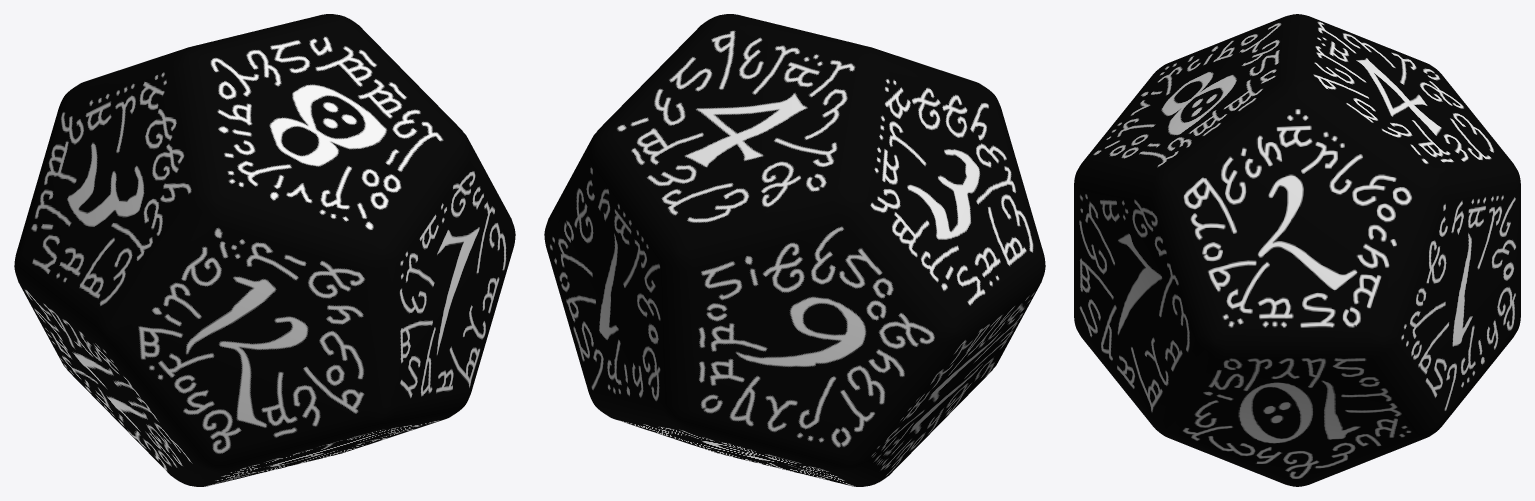
Rendered from elvish_SELV05_d12.glb.
The picture shows the model from 3 angles, left to right: view 1: azimuth 30°, elevation 25°; view 2: azimuth 150°, elevation 25°; view 3: azimuth 270°, elevation 25°; orthographic projection. The views are drawn at different scales.
Visible parts, largest first — view 1: Solid; view 2: Solid; view 3: Solid.
Boxes of the visible parts, bbox=[...] form: Solid: bbox=[14, 14, 515, 486]; Solid: bbox=[544, 14, 1045, 486]; Solid: bbox=[1074, 14, 1520, 486].
Size of the model in its own units: 164 by 164 by 164.
Materials: 1 (1 with a texture image).
